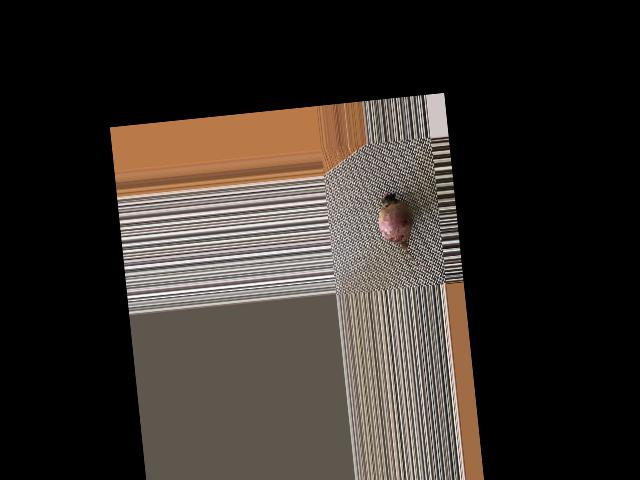beet: (376, 187, 431, 279)
